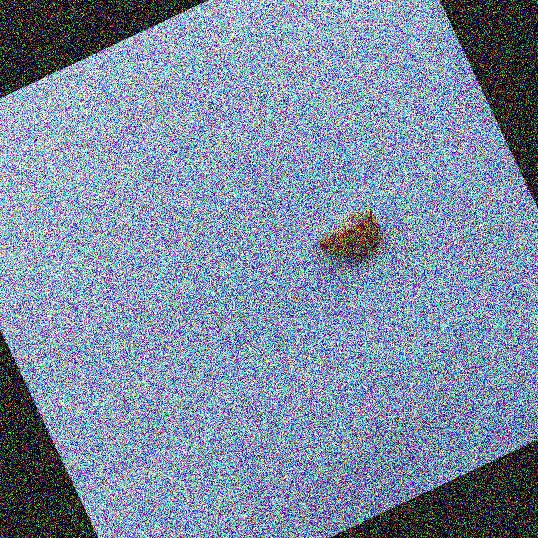grade4: (305, 200, 396, 280)
